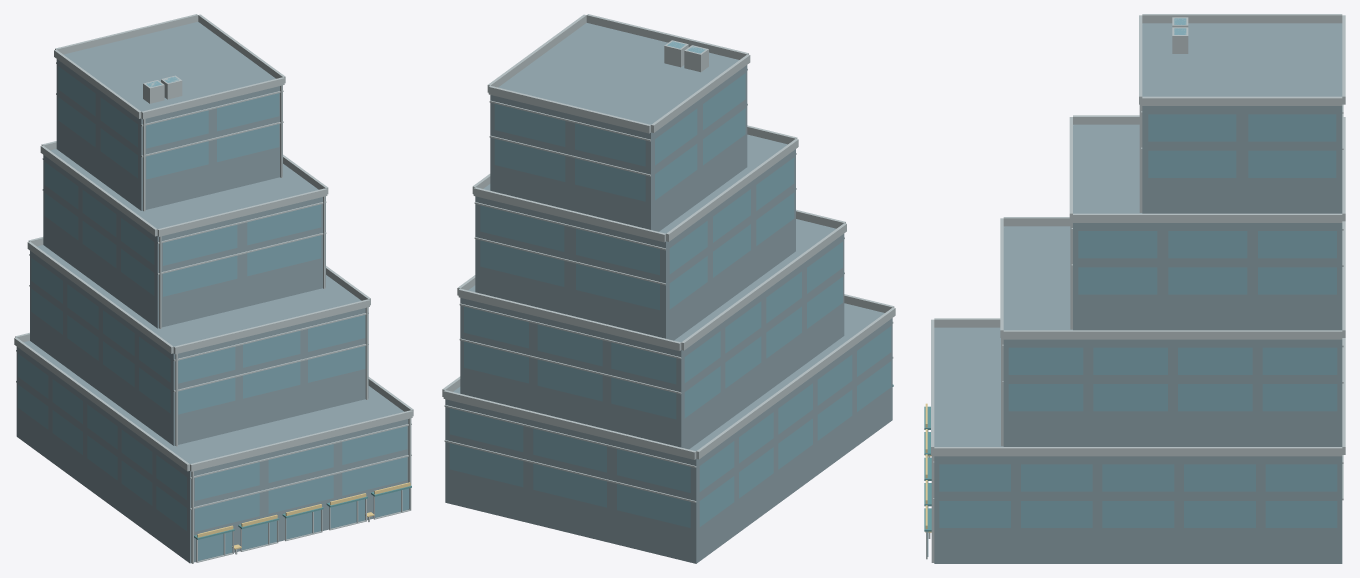
File: commercial_3x4_terraces.glb
3 views of the same model, side by side, from view 1: azimuth 30°, elevation 25°; view 2: azimuth 150°, elevation 25°; view 3: azimuth 270°, elevation 25° (orthographic). The views are drawn at different scales.
Parts seen in each view (by area): view 1: commercial_3x4_terraces_0; view 2: commercial_3x4_terraces_0; view 3: commercial_3x4_terraces_0.
Part boxes in pixels (<box>): commercial_3x4_terraces_0: <box>14,14,413,563</box>; commercial_3x4_terraces_0: <box>442,14,895,563</box>; commercial_3x4_terraces_0: <box>924,14,1345,563</box>.
Size of the model in its own units: 23 by 37.5 by 31.5.
